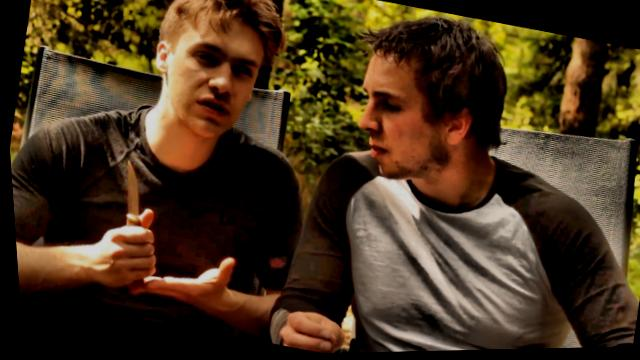knife: (88, 148, 179, 275)
